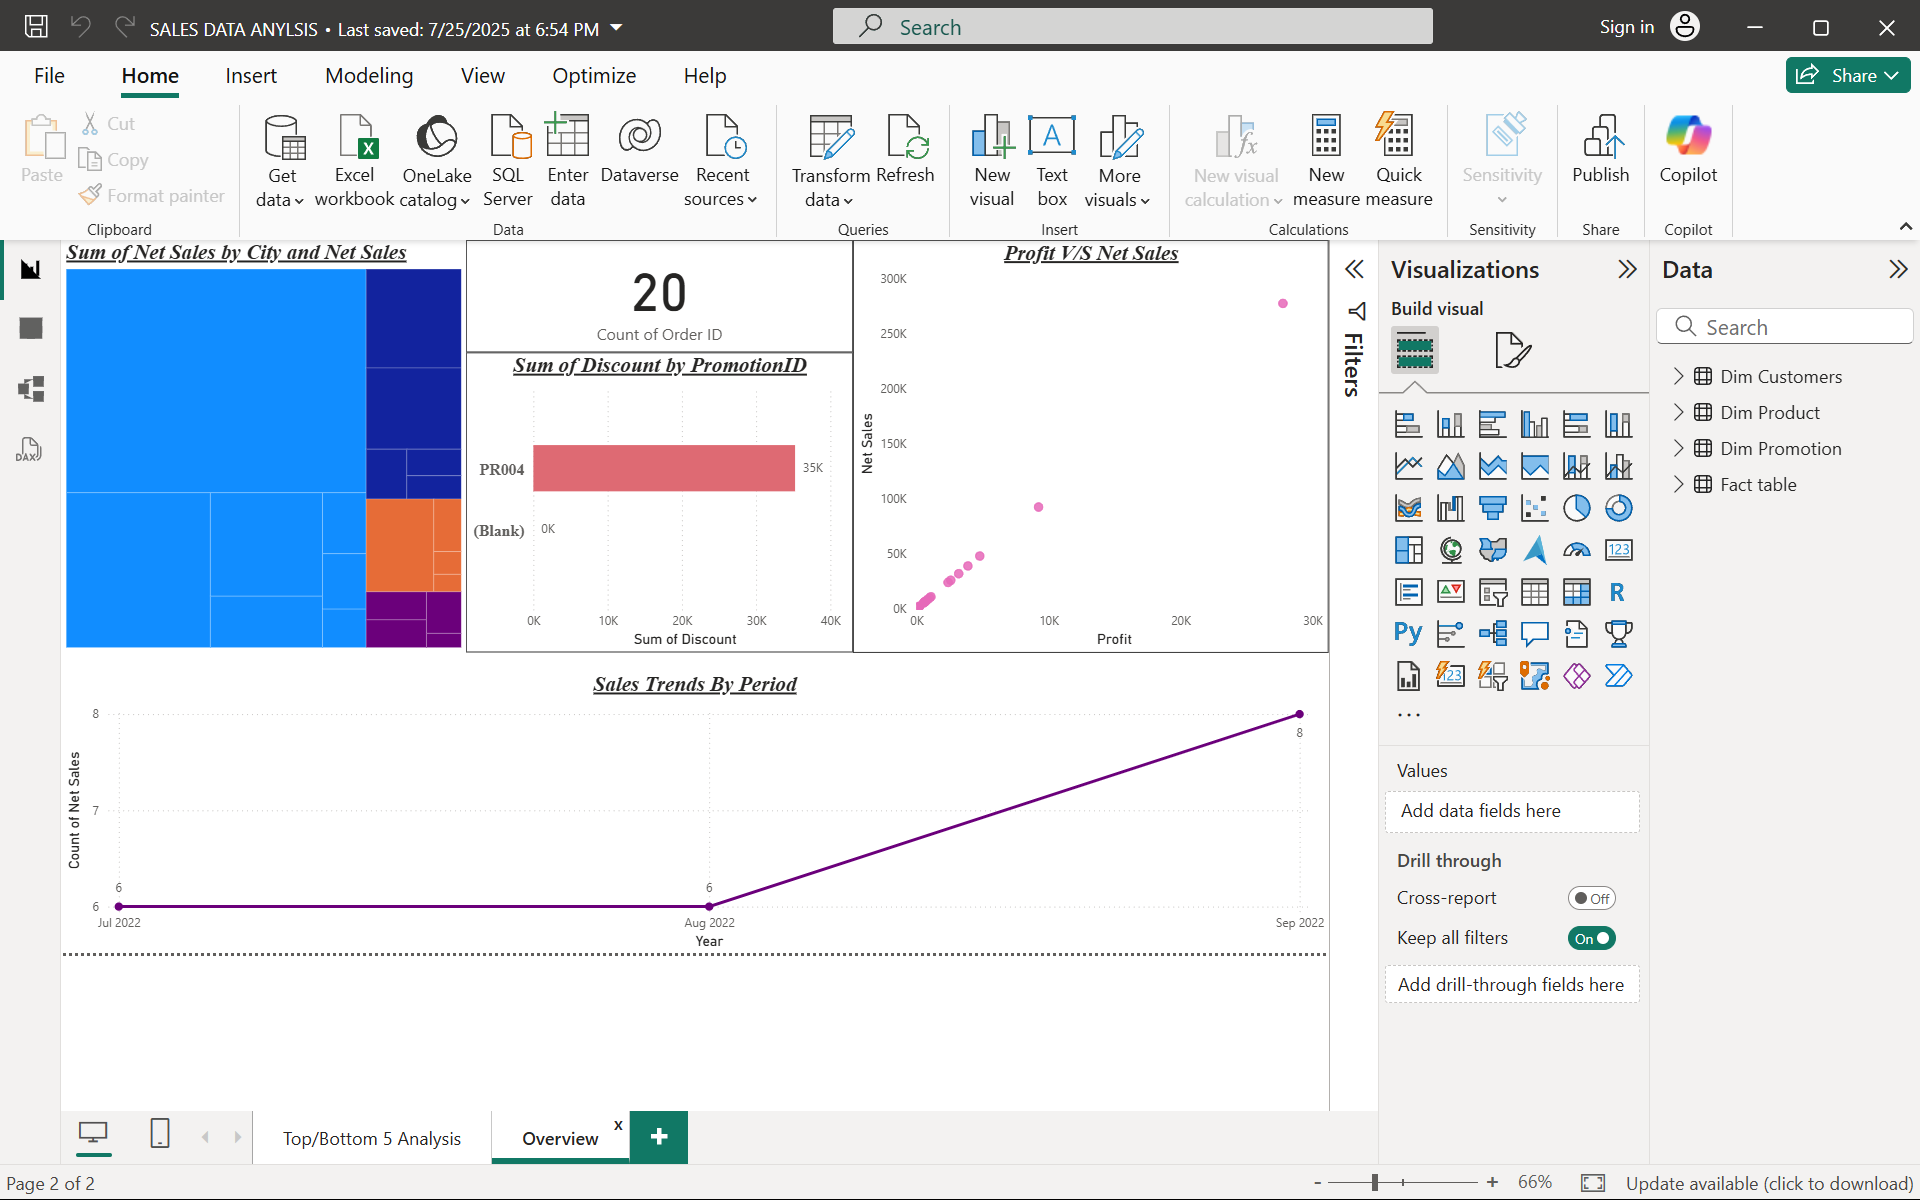

What the dashboard file says about the page in this screenshot:
{"tool":"powerbi","page":{"name":"Overview","canvas":[1280,720],"ordinal":1},"visuals":[{"type":"lineChart","title":"Sales Trends By Period","fields":{"Category":["Fact table.Date (dd/mm/yyyy).Variation.Date Hierarchy.Year","Fact table.Date (dd/mm/yyyy).Variation.Date Hierarchy.Quarter","Fact table.Date (dd/mm/yyyy).Variation.Date Hierarchy.Month","Fact table.Date (dd/mm/yyyy).Variation.Date Hierarchy.Day"],"Y":["CountNonNull(Fact table.Net Sales  )"]},"box":[0,436.4,1280,283.6],"z":0},{"type":"scatterChart","title":"Profit V/S Net Sales  ","fields":{"X":["Fact table.Profit"],"Y":["Fact table.Net Sales  "]},"box":[800,0,480,416.4],"z":1000},{"type":"barChart","fields":{"Y":["Sum(Fact table.Discount)"],"Category":["Dim Promotion.PromotionID"]},"box":[408.8,113.6,390.7,302.8],"z":2000},{"type":"treemap","fields":{"Group":["Dim Customers.City"],"Details":["Fact table.Net Sales  "],"Values":["Sum(Fact table.Net Sales  )"]},"box":[0,0,408.8,416.4],"z":3000},{"type":"card","fields":{"Values":["Count(Fact table.Order ID)"]},"box":[408.8,0,390.7,113.6],"z":4000}]}

Visuals, with their boxes on the page's 1280x720 design canvas (x1, y1, x2, y2). These are canvas units, not pixel positions in the 1920x1200 screenshot, which may show the page scaled, cropped or inside an application window:
"Sales Trends By Period" lineChart: bbox(0, 436, 1280, 720)
"Profit V/S Net Sales  " scatterChart: bbox(800, 0, 1280, 416)
barChart - Sum(Fact table.Discount) x Dim Promotion.PromotionID: bbox(409, 114, 800, 416)
treemap - Dim Customers.City x Fact table.Net Sales  : bbox(0, 0, 409, 416)
card - Count(Fact table.Order ID): bbox(409, 0, 800, 114)
